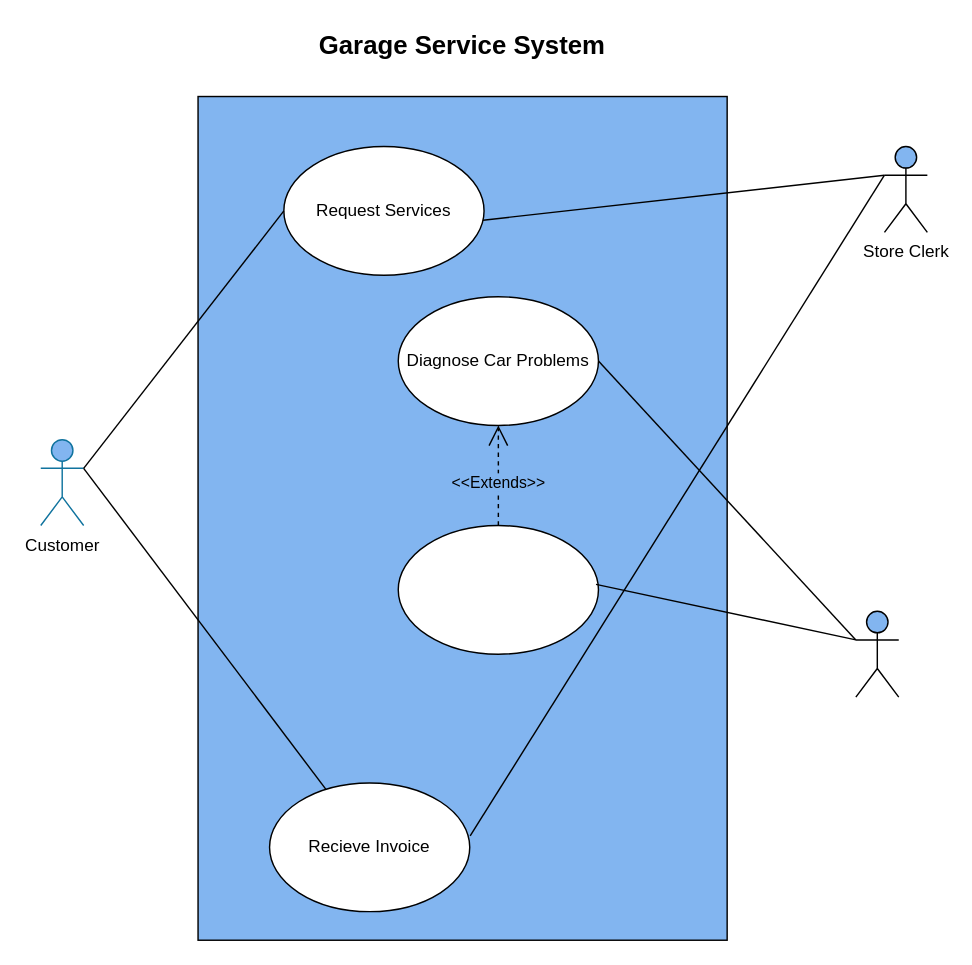
This 972x965 diagram has some shape labels left out. Here are the shapes that lost their labels. From the top down, the centre of each, then its label:
At (x=497, y=589): "Perform Car Services".
At (x=876, y=653): "Mechanic".
